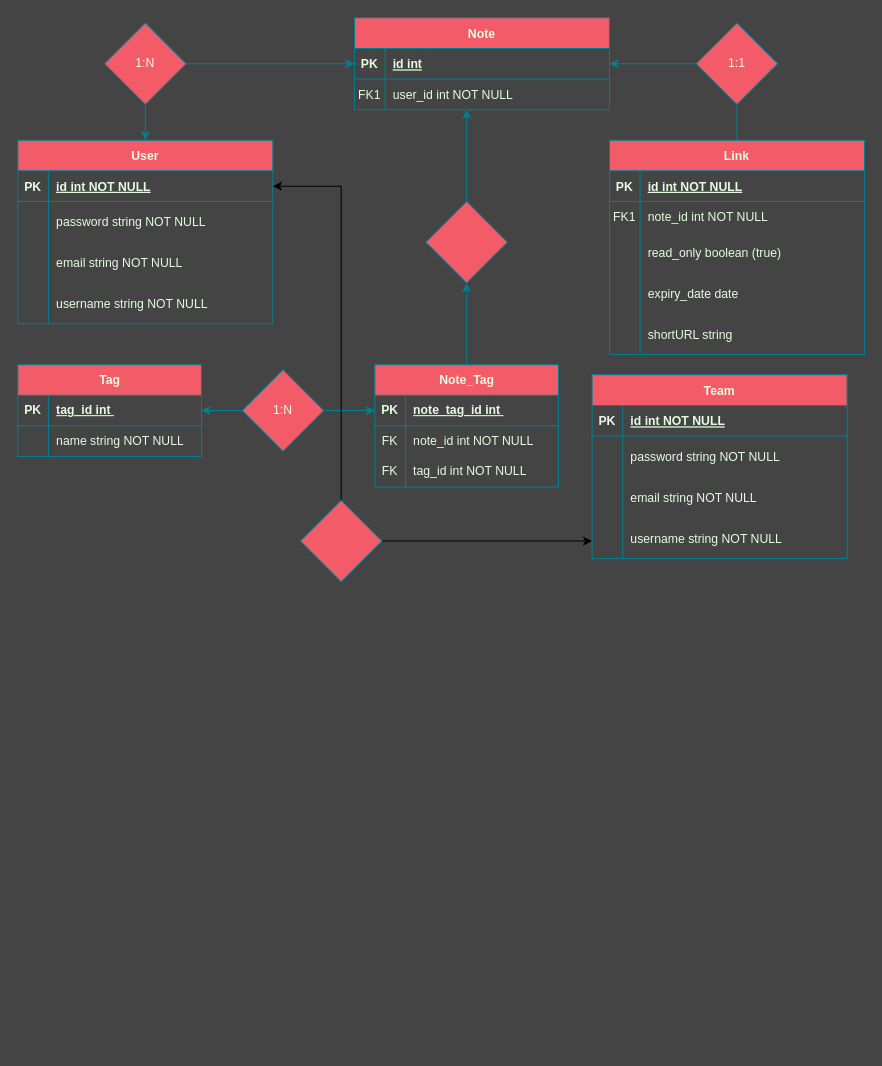
Some shapes in this 882 by 1066 pixel diagram are drawn without their labels. Here are the shapes that lost their labels. From the top down, the centre of each, then its label:
At (x=466, y=241): "N:1".
At (x=340, y=540): "N:M".
